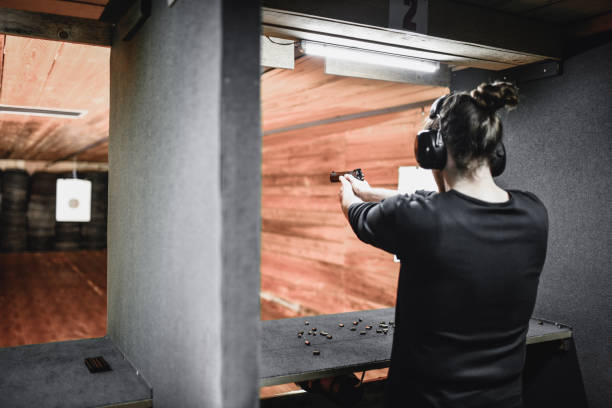gun: (328, 166, 363, 184)
